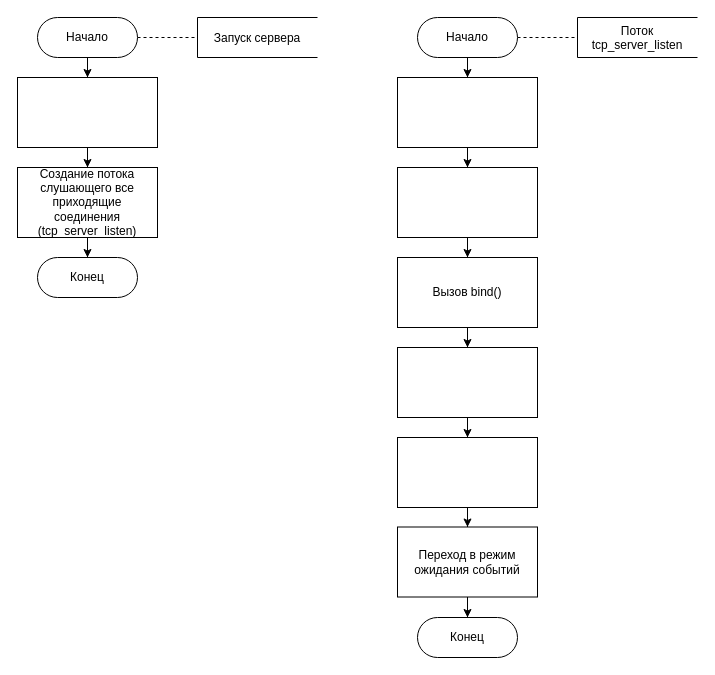
Image size: 715x675. Some labels were removed from this diagram. The shapes that lost their labels are listed below. From the top down, each one's centre as x and y in pixels, then its label:
the point at 87,112: Выделение памяти под структуры tcp_server_service и tcp_conn_handler
the point at 467,112: Создание сокета SOCK_STREAM
the point at 467,202: Заполнение структуры sockaddr_in
the point at 467,382: Вызов listen()
the point at 467,472: Создание потока для принятия соединений (tcp_server_accept)
